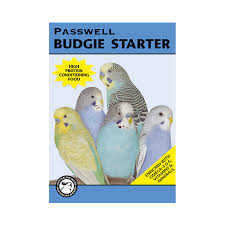budgie: (52, 105, 103, 185), (96, 102, 140, 182), (141, 104, 174, 163), (99, 63, 145, 103), (75, 86, 104, 119)
